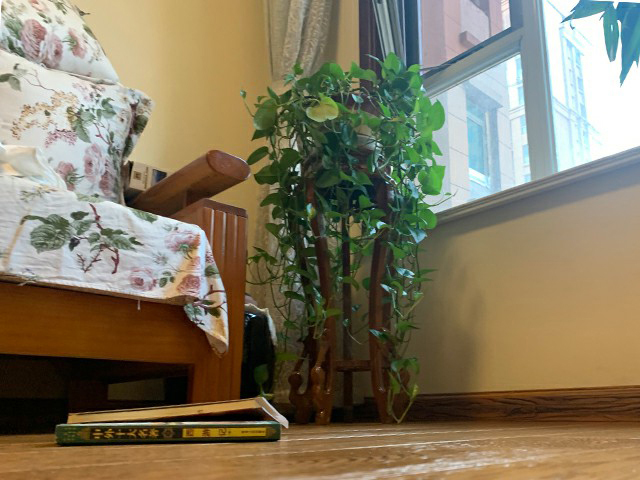book: (54, 395, 292, 447)
sofa: (1, 1, 251, 430)
